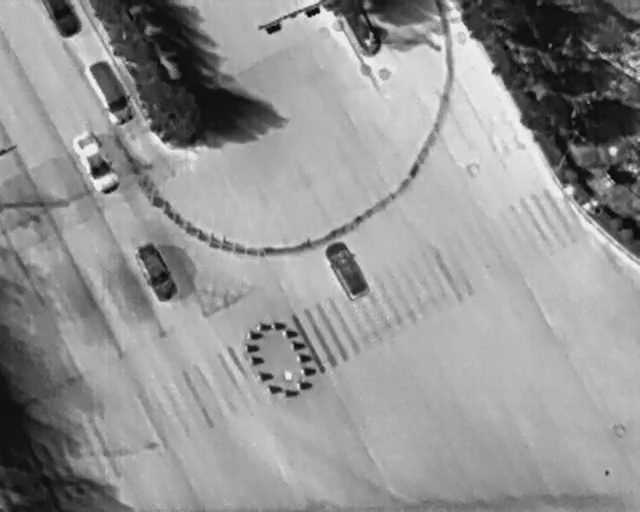Car: (67, 127, 126, 199), (82, 55, 139, 129), (319, 235, 374, 304), (129, 239, 182, 306), (41, 0, 81, 38)
